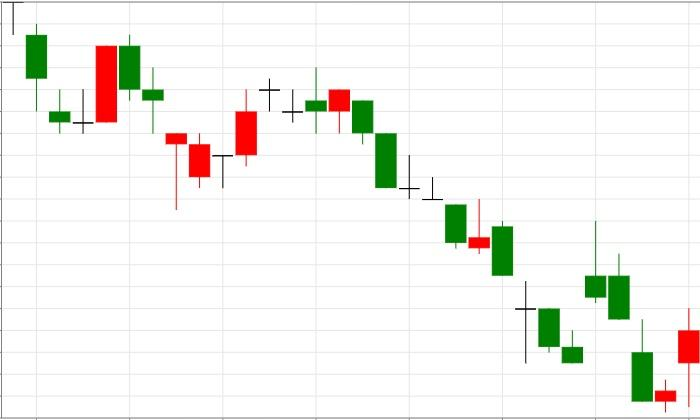morning_star_rise: (2, 1, 117, 134)
